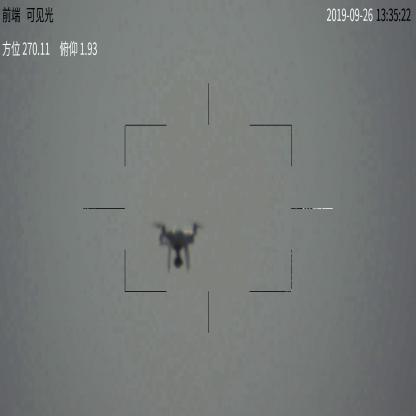uav: (152, 222, 202, 272)
